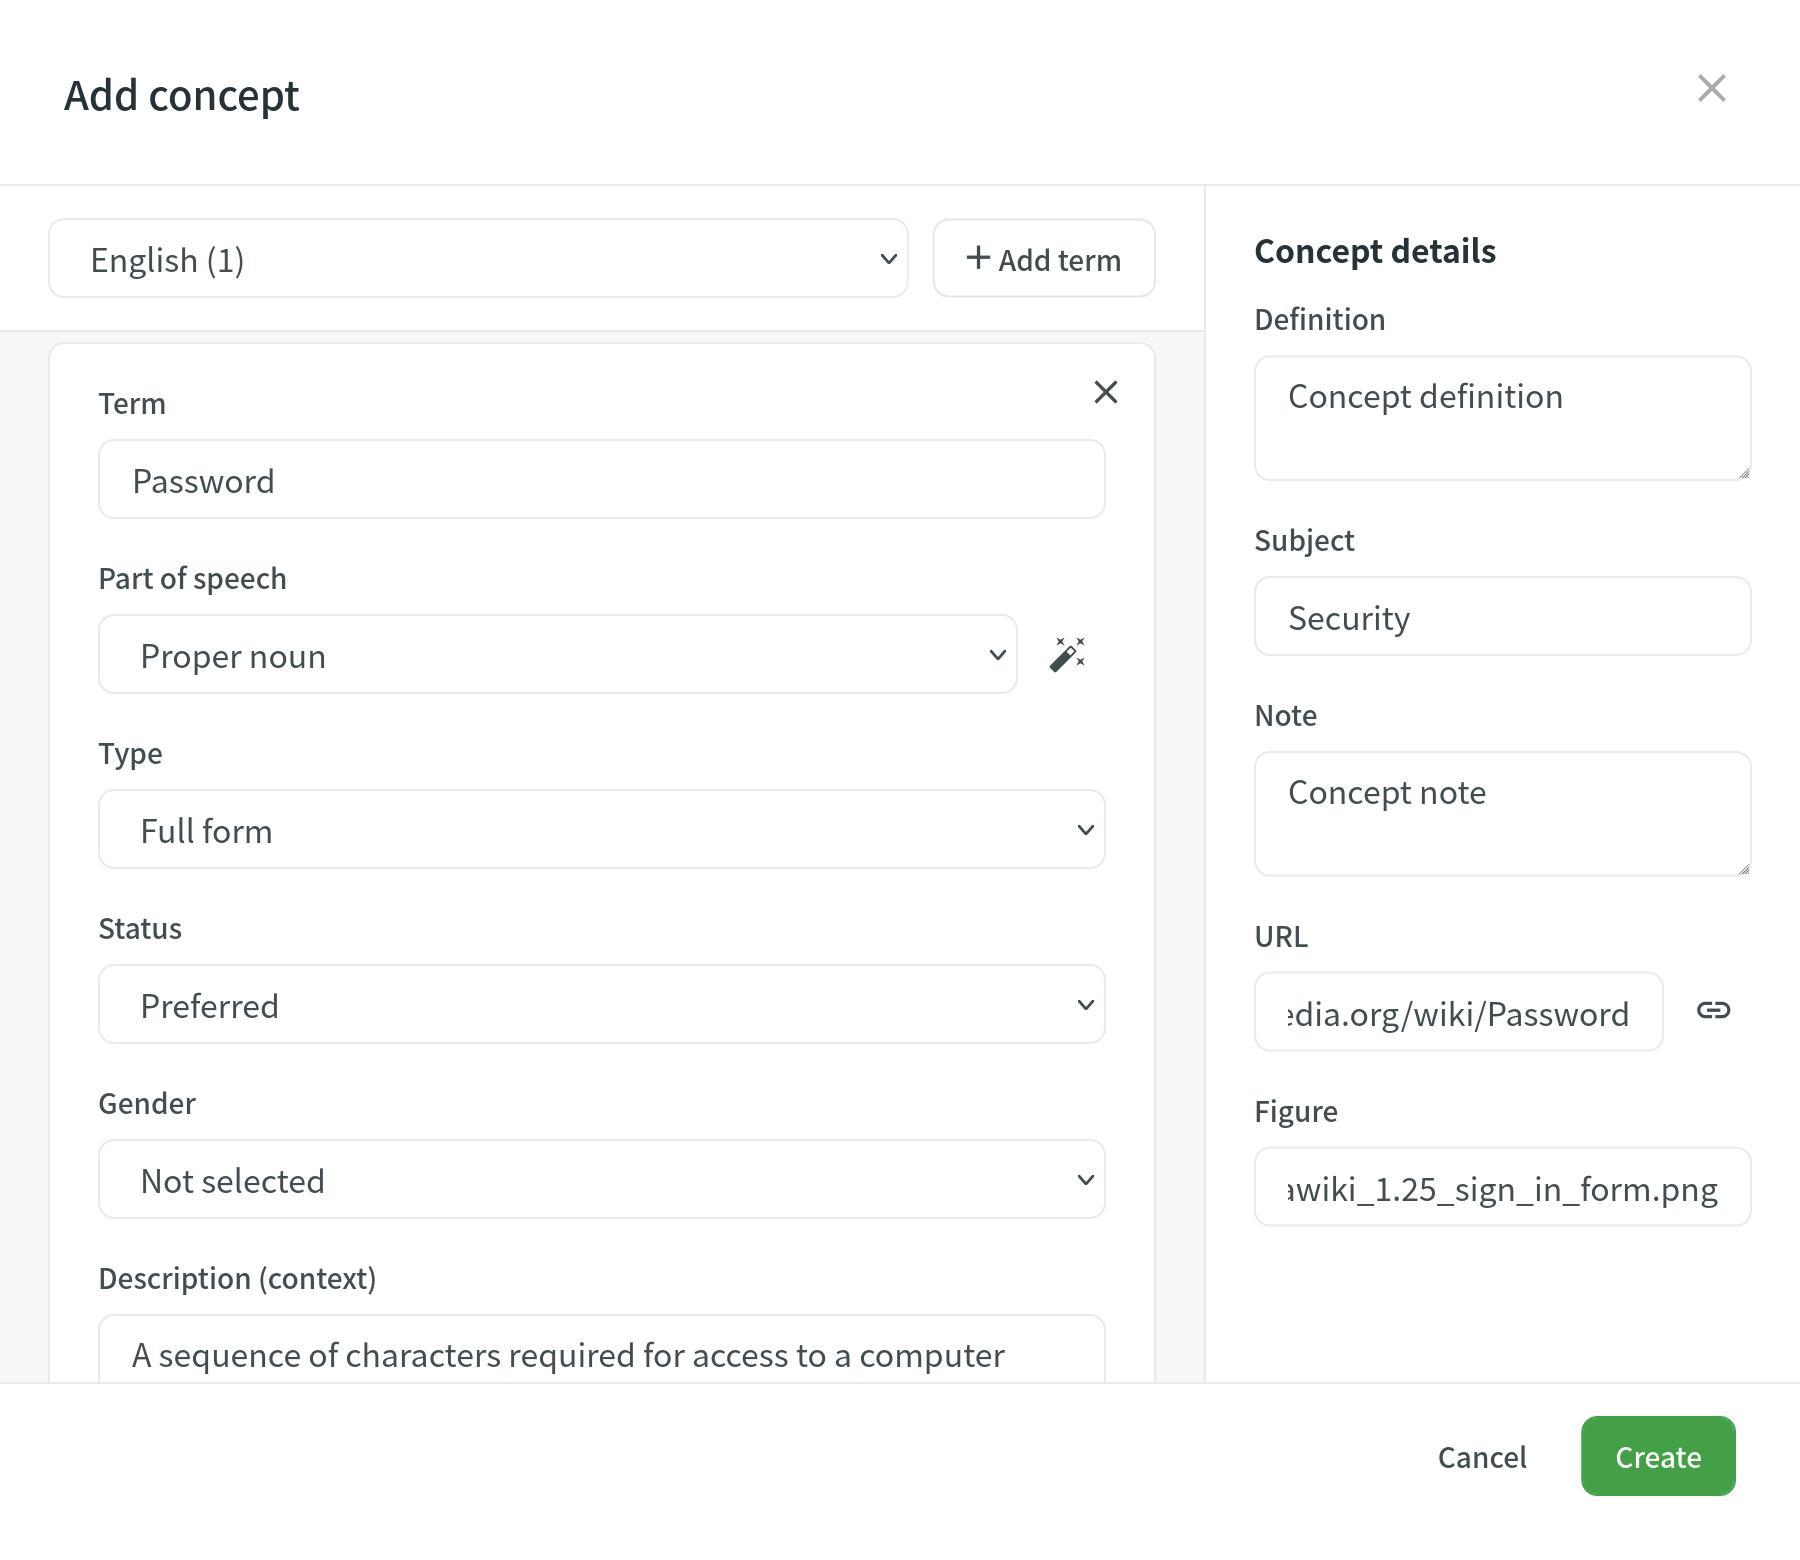button: (934, 220, 1159, 300), (1580, 1416, 1737, 1499)
dropdown: (98, 966, 1105, 1046), (99, 791, 1107, 870), (99, 1142, 1107, 1219), (103, 617, 1019, 694), (47, 220, 909, 302)
icon: (1039, 631, 1099, 681), (1691, 992, 1740, 1030), (1696, 69, 1733, 110), (1094, 378, 1120, 407)
input: (99, 441, 1107, 521), (99, 1317, 1107, 1384), (1255, 755, 1753, 877), (1257, 358, 1754, 478), (1257, 579, 1751, 658), (1258, 1150, 1751, 1225), (1257, 974, 1665, 1052)
label: (95, 1260, 386, 1300), (63, 75, 302, 119), (1251, 230, 1502, 271), (101, 566, 300, 600), (1251, 305, 1388, 344), (1427, 1441, 1540, 1482), (1251, 517, 1362, 559), (90, 386, 191, 427), (1251, 1092, 1345, 1133), (93, 1087, 201, 1121), (101, 733, 178, 773), (99, 917, 184, 948), (1254, 919, 1322, 951)
